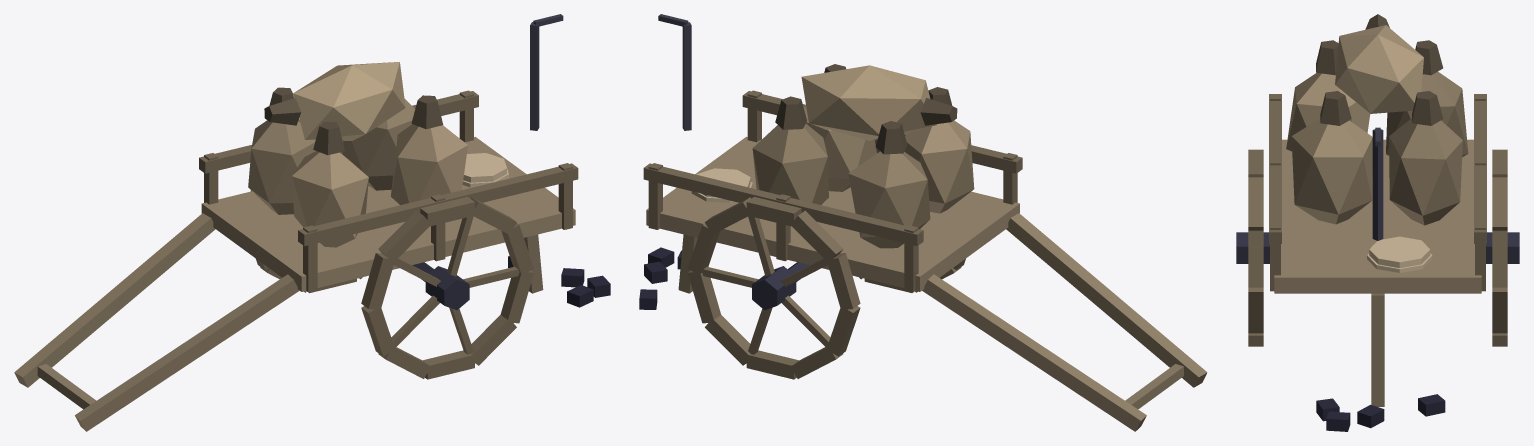
File: sack_cart.glb
3 views of the same model, side by side, from view 1: azimuth 30°, elevation 25°; view 2: azimuth 150°, elevation 25°; view 3: azimuth 270°, elevation 25° (orthographic). The views are drawn at different scales.
Visible parts, largest first — view 1: driftwood_d40, driftwood_d30, driftwood_d25, driftwood_d20, driftwood_d12, driftwood_d55, ink_l10, ink_l5, ink_l15, driftwood_l10, driftwood_d35; view 2: driftwood_d30, driftwood_d40, driftwood_d25, driftwood_d12, driftwood_d20, driftwood_d55, ink_l10, ink_l15, ink_l5, driftwood_l10, driftwood_d35; view 3: driftwood_d25, driftwood_d40, driftwood_d20, driftwood_d30, driftwood_d12, driftwood_d55, driftwood_l10, ink_l5, driftwood_d35, ink_l15, ink_l10.
Part boxes in pixels (box(x1,y1,x2,y2)): driftwood_d40: box(199, 90, 578, 379); driftwood_d30: box(14, 98, 415, 431); driftwood_d25: box(201, 136, 575, 291); driftwood_d20: box(291, 124, 467, 247); driftwood_d12: box(293, 62, 405, 140); driftwood_d55: box(264, 87, 443, 155); ink_l10: box(412, 262, 469, 310); ink_l5: box(508, 256, 610, 307); ink_l15: box(530, 14, 563, 130); driftwood_l10: box(462, 153, 508, 187); driftwood_d35: box(524, 234, 543, 293); driftwood_d30: box(752, 123, 1207, 431); driftwood_d40: box(643, 90, 1022, 379); driftwood_d25: box(646, 136, 1019, 291); driftwood_d12: box(801, 65, 936, 140); driftwood_d20: box(804, 106, 974, 213); driftwood_d55: box(775, 64, 957, 154); ink_l10: box(752, 262, 809, 310); ink_l15: box(658, 14, 691, 130); ink_l5: box(639, 247, 681, 309); driftwood_l10: box(691, 168, 752, 202); driftwood_d35: box(678, 234, 697, 293); driftwood_d25: box(1274, 139, 1481, 293); driftwood_d40: box(1248, 94, 1507, 346); driftwood_d20: box(1286, 73, 1372, 224); driftwood_d30: box(1386, 71, 1468, 225); driftwood_d12: box(1335, 25, 1423, 113); driftwood_d55: box(1316, 14, 1443, 125); driftwood_l10: box(1367, 236, 1432, 272); ink_l5: box(1316, 394, 1445, 431); driftwood_d35: box(1371, 293, 1384, 406); ink_l15: box(1372, 127, 1383, 240); ink_l10: box(1236, 232, 1519, 263).
Bounding box in the file's own units: 2.96 × 1.42 × 1.3.
